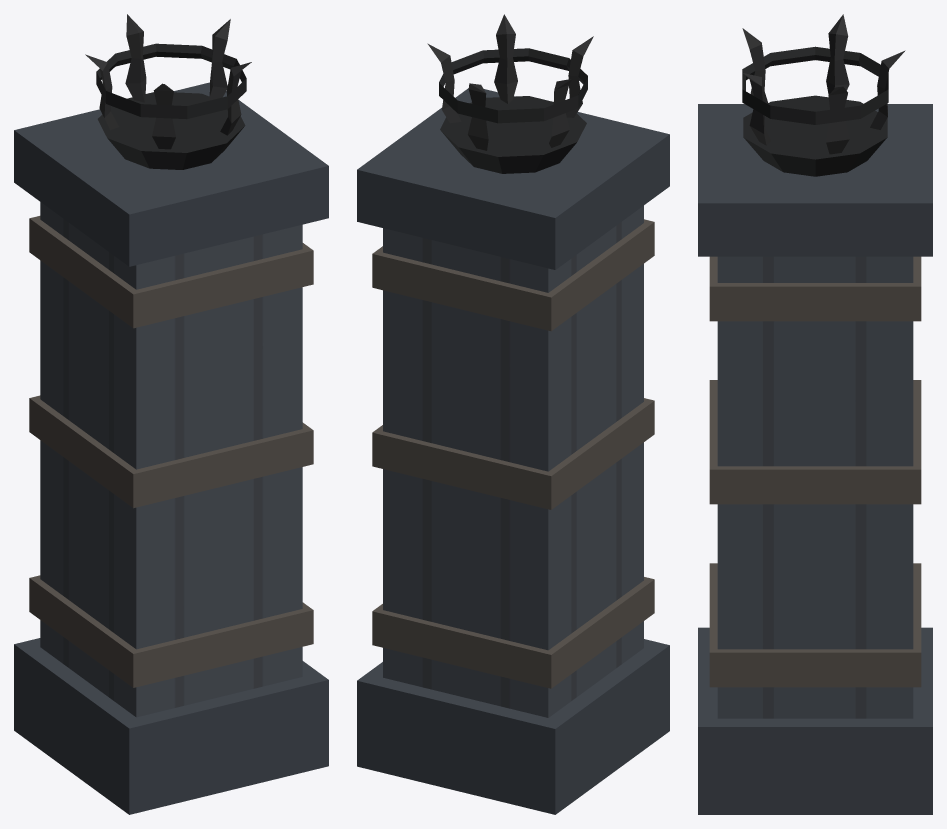
File: Pillar 05.fbx
3 views of the same model, side by side, from view 1: azimuth 30°, elevation 25°; view 2: azimuth 150°, elevation 25°; view 3: azimuth 270°, elevation 25° (orthographic). The views are drawn at different scales.
Parts seen in each view (by area): view 1: Pillar_05; view 2: Pillar_05; view 3: Pillar_05.
Boxes of the visible parts, left/top/right/bottom form: Pillar_05: left=14, top=14, right=328, bottom=814; Pillar_05: left=357, top=14, right=669, bottom=814; Pillar_05: left=698, top=14, right=932, bottom=814.
Bounding box in the file's own units: 96 × 323 × 96.
